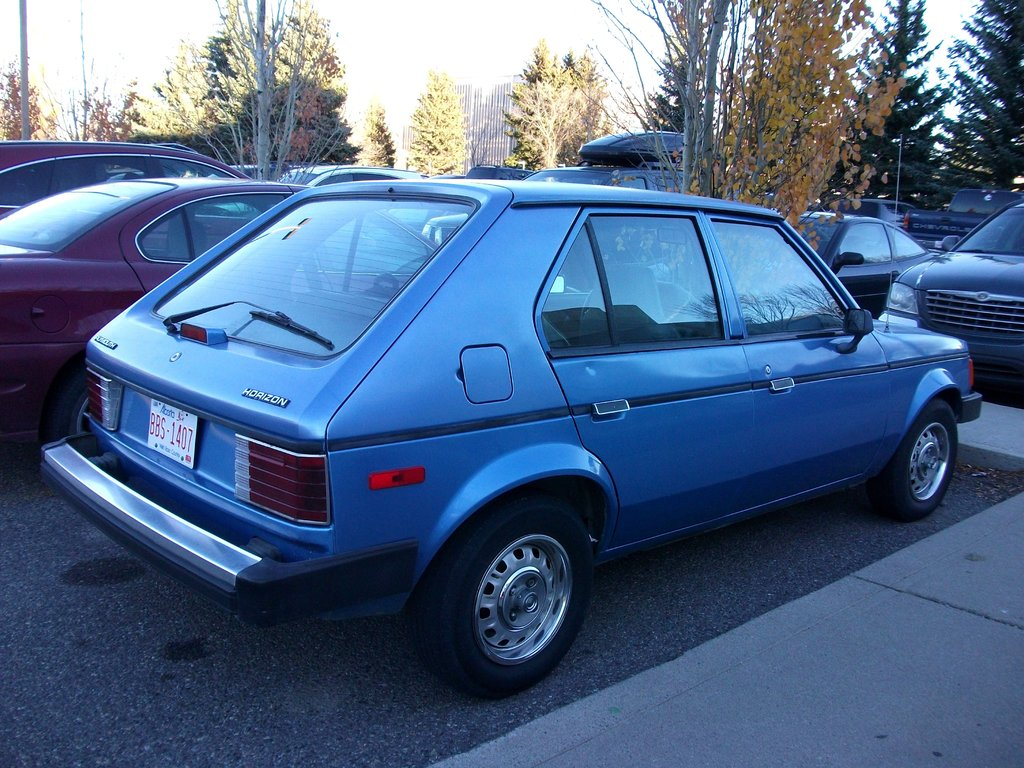Car: (37, 164, 986, 696), (0, 180, 447, 449), (412, 158, 698, 257), (874, 197, 1023, 376), (0, 135, 252, 220), (768, 206, 922, 320), (896, 186, 1016, 254), (268, 153, 427, 196), (798, 199, 907, 232)
